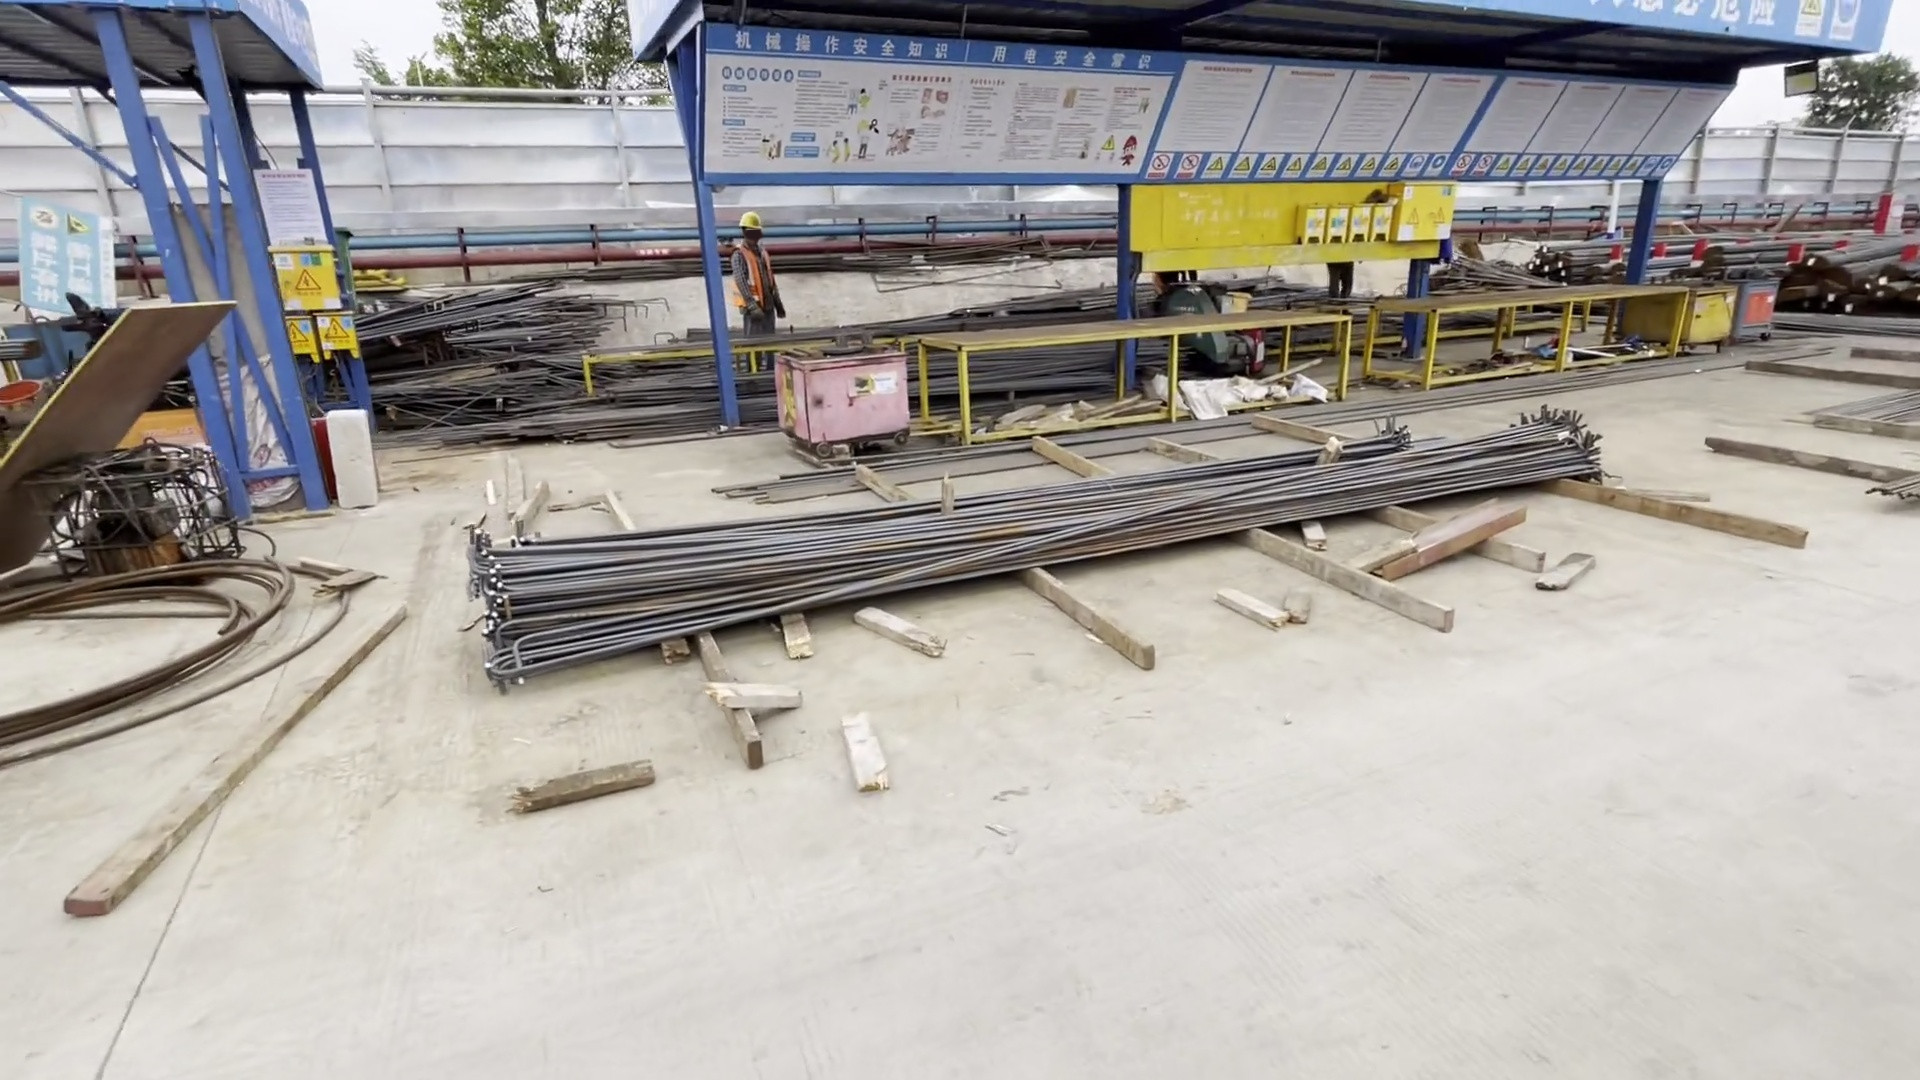ebox: (248, 240, 355, 359), (1273, 187, 1444, 255)
helmet: (737, 211, 760, 228)
person: (722, 212, 781, 341)
rebar: (473, 411, 1695, 692), (354, 288, 715, 409), (1526, 233, 1920, 310)
slogan: (689, 1, 1920, 198)
vest: (730, 247, 768, 307)
